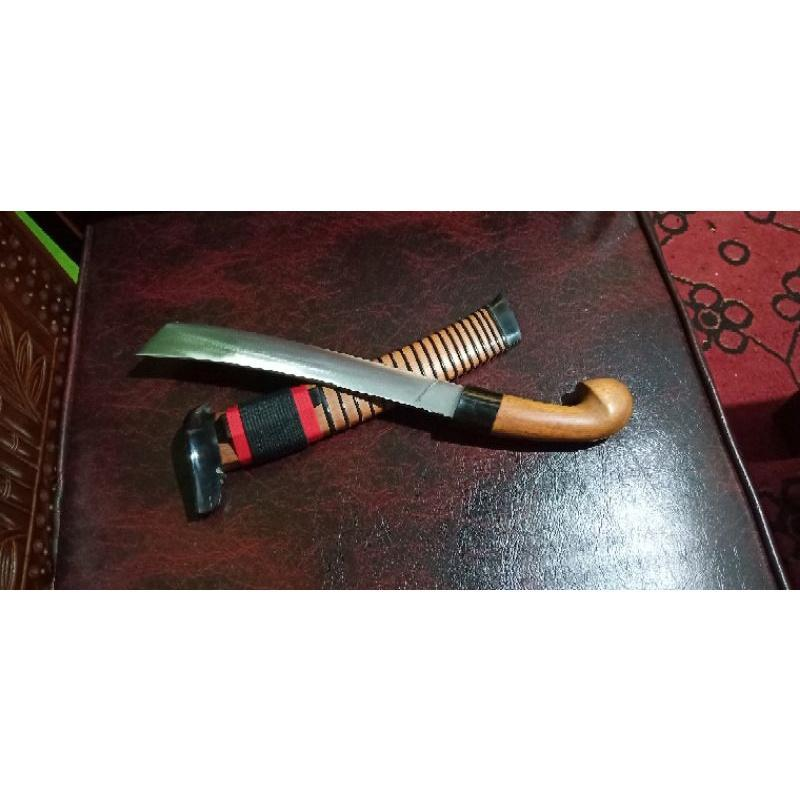facao: (148, 306, 665, 448)
